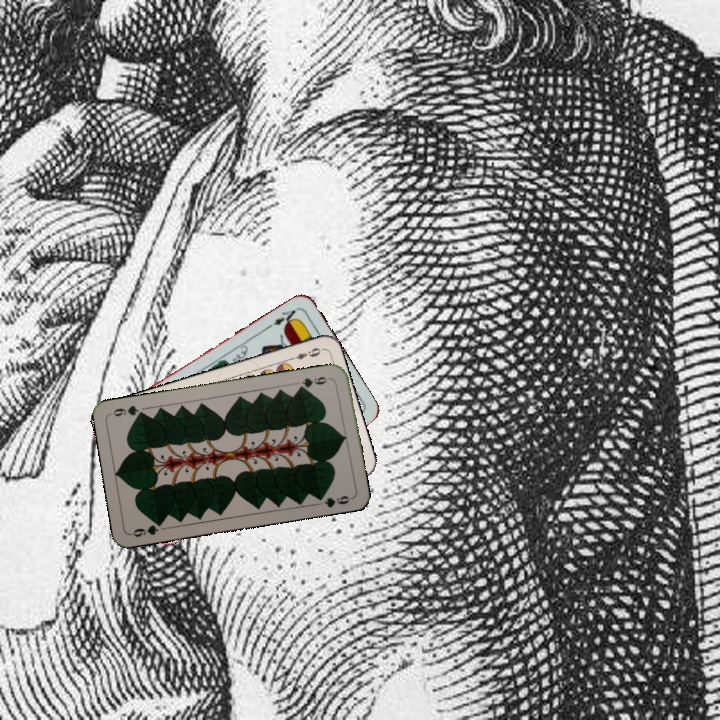E9: (285, 344, 323, 363)
EA: (264, 304, 301, 331)
G9: (127, 517, 166, 540), (295, 372, 334, 392)
